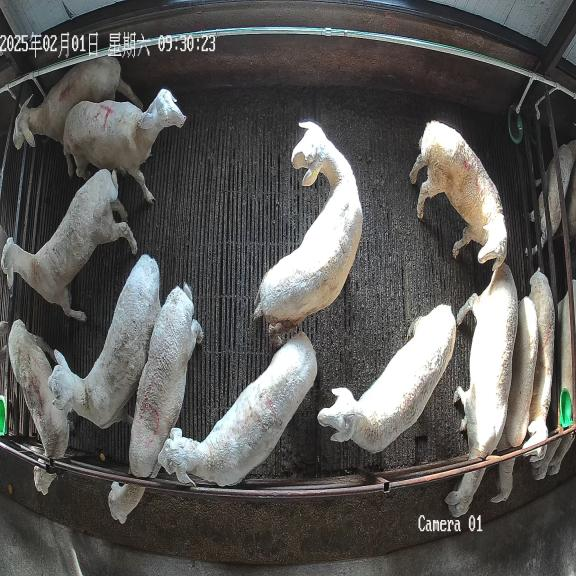eating: (108, 283, 203, 523), (445, 262, 518, 516), (491, 297, 538, 502)
stand: (254, 120, 362, 347), (158, 332, 317, 486), (1, 169, 137, 321), (318, 305, 456, 453), (48, 255, 161, 428), (410, 120, 507, 270), (63, 88, 186, 203), (13, 56, 143, 148), (8, 319, 69, 495), (522, 269, 555, 462)
